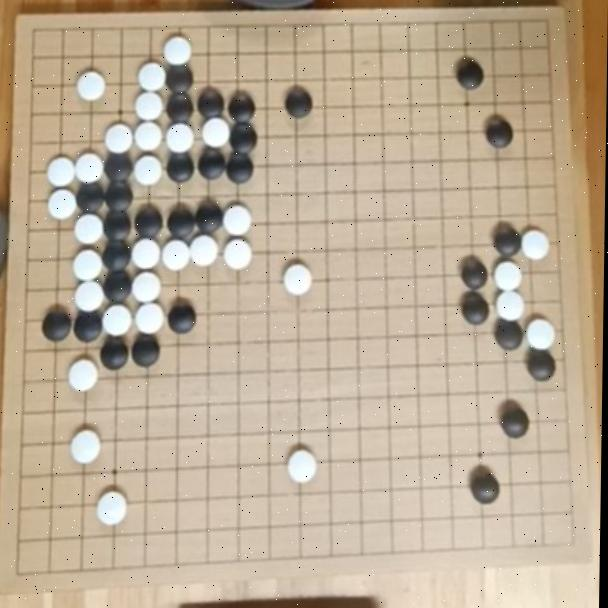corners: (3, 554, 43, 592), (18, 16, 59, 52), (524, 9, 564, 45), (555, 526, 587, 561)
